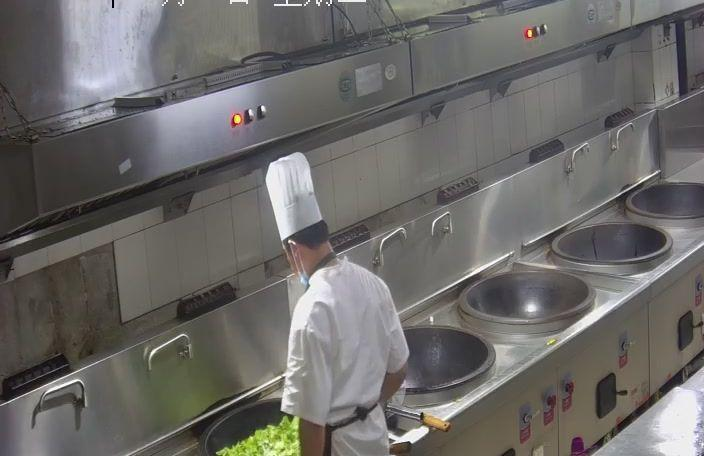mask: (282, 237, 312, 288)
